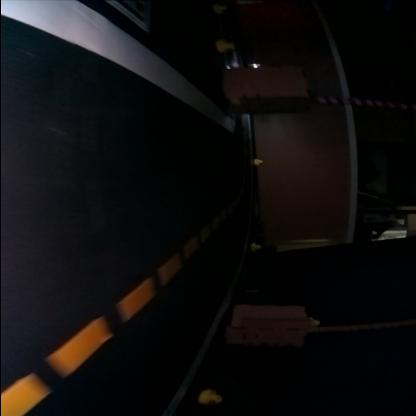Duckie: (200, 390, 220, 406), (217, 43, 235, 54), (212, 6, 226, 14), (309, 318, 319, 327), (251, 244, 259, 251), (255, 160, 261, 164)
